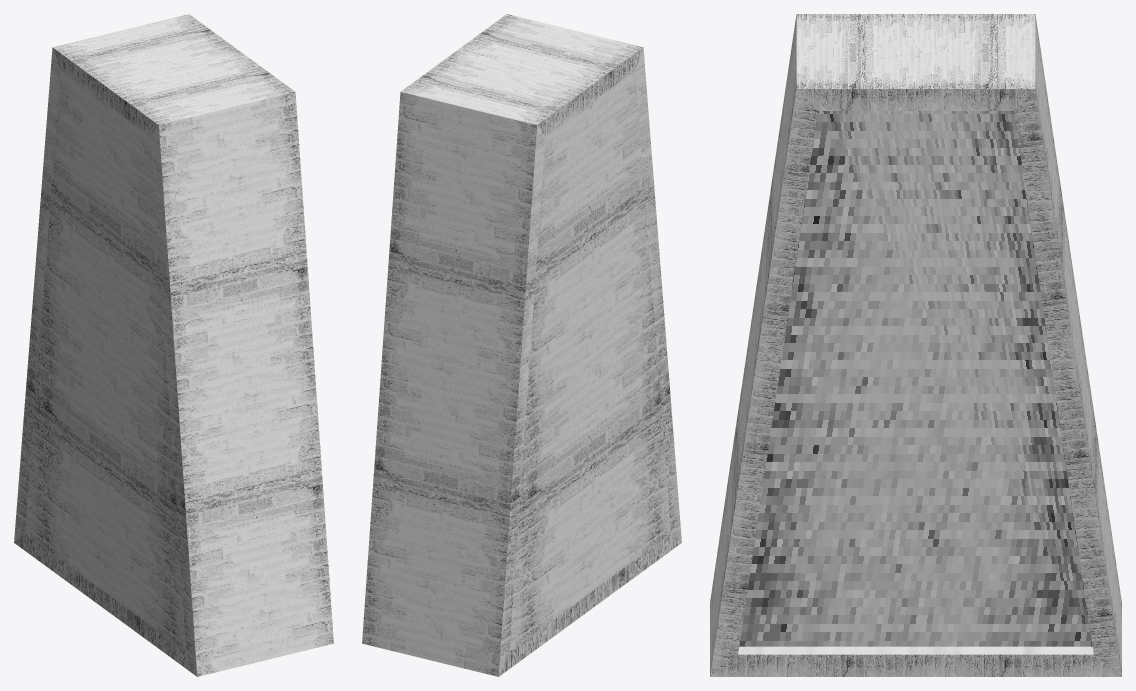
The model's file is obelisk3.fbx.
3 renders of one model, left to right at view 1: azimuth 30°, elevation 25°; view 2: azimuth 150°, elevation 25°; view 3: azimuth 270°, elevation 25°, orthographic. The views are drawn at different scales.
Visible parts, largest first — view 1: Obelisk; view 2: Obelisk; view 3: ObeliskFace, Obelisk.
Part boxes in pixels (x1=…): Obelisk: x1=14, y1=14, x2=333, y2=676; Obelisk: x1=362, y1=14, x2=681, y2=676; ObeliskFace: x1=739, y1=111, x2=1092, y2=646; Obelisk: x1=710, y1=14, x2=1121, y2=676.
Bounding box in the file's own units: 54.63 × 200 × 127.
